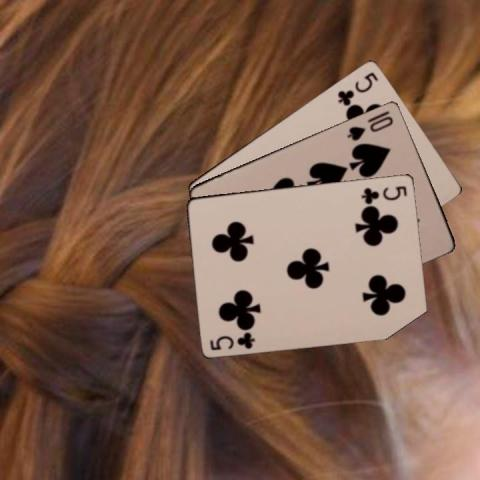10s: (344, 113, 394, 142)
5c: (334, 69, 380, 106), (206, 329, 256, 351), (358, 182, 408, 203)
